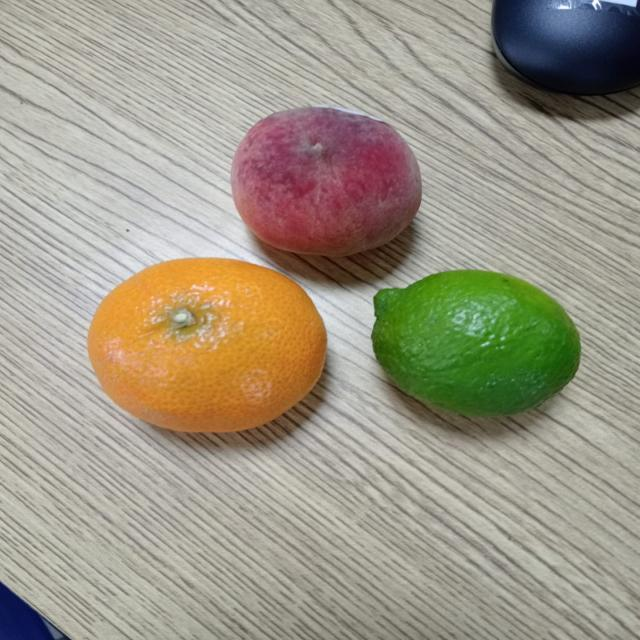Jeruk Mandarin: (74, 251, 333, 439)
Lemon: (363, 260, 586, 425)
Persik: (222, 91, 436, 261)
